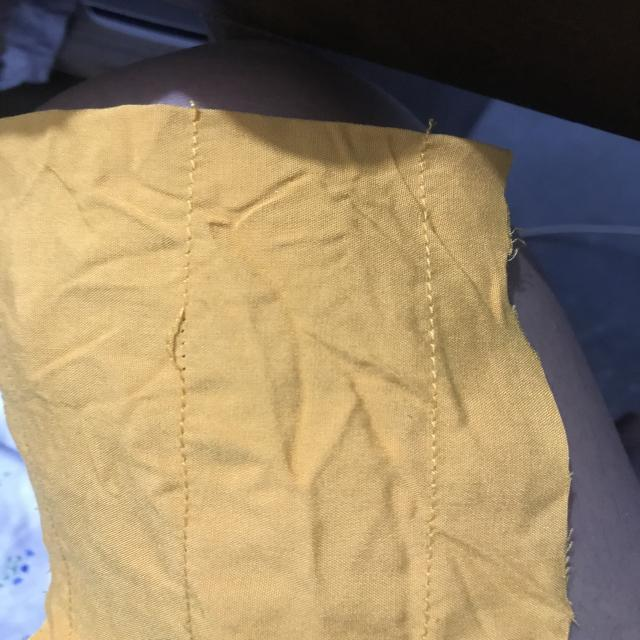good: (180, 158, 207, 245)
skip: (157, 285, 233, 388)
